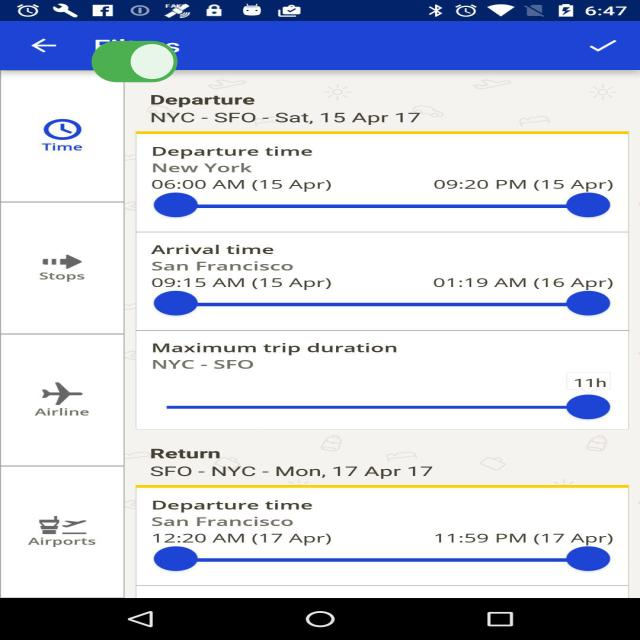social proof: (88, 25, 181, 101)
